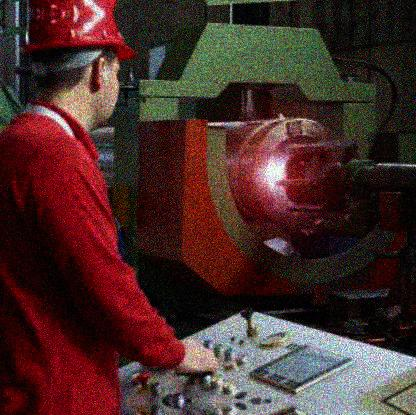helmet: (22, 15, 138, 130)
